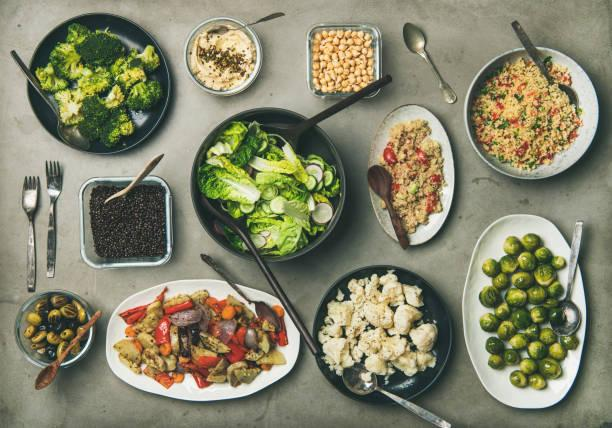Braised Crucian Carp: (460, 211, 593, 411), (106, 278, 297, 402), (190, 107, 343, 261), (26, 12, 171, 154), (311, 264, 456, 404), (464, 44, 602, 183), (365, 103, 459, 249)
